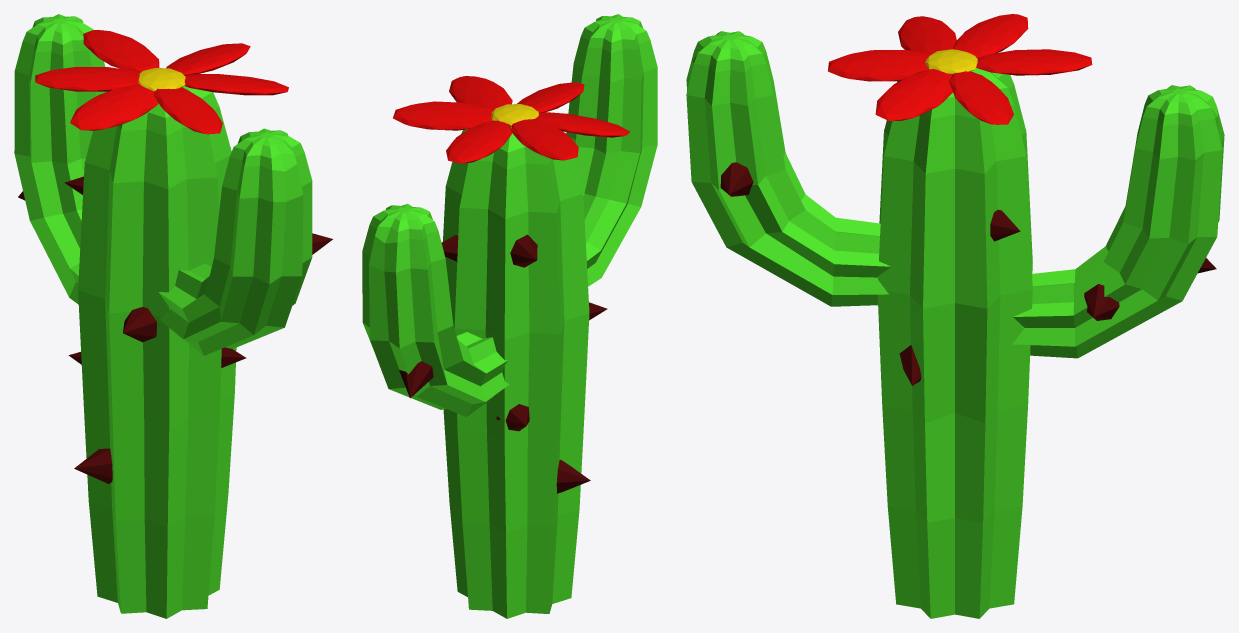
Rendered from cactus1.fbx.
3 views of the same model, side by side, from view 1: azimuth 30°, elevation 25°; view 2: azimuth 150°, elevation 25°; view 3: azimuth 270°, elevation 25° (orthographic). The views are drawn at different scales.
Visible parts, largest first — view 1: Cylinder, Cylinder.002, Cylinder.001, Icosphere.004, Icosphere, Icosphere.002, Icosphere.003, Icosphere.005, Icosphere.006, Cone.003, Icosphere.001, Cone; view 2: Cylinder, Cylinder.001, Cylinder.002, Icosphere.006, Icosphere.002, Icosphere, Icosphere.005, Icosphere.004, Icosphere.003, Icosphere.001, Cone.002, Cone.001 (+2 smaller); view 3: Cylinder, Cylinder.002, Cylinder.001, Icosphere.005, Icosphere.003, Icosphere.002, Icosphere.006, Icosphere, Icosphere.004, Icosphere.001, Cone.008, Cone.004.
Boxes of the visible parts, box(x1,y1,x2,y2) form: Cylinder: box(78, 86, 236, 618); Cylinder.002: box(158, 128, 312, 355); Cylinder.001: box(14, 14, 106, 304); Icosphere.004: box(70, 84, 158, 130); Icosphere: box(35, 67, 139, 91); Icosphere.002: box(83, 30, 159, 72); Icosphere.003: box(153, 87, 222, 134); Icosphere.005: box(184, 74, 288, 95); Icosphere.006: box(166, 43, 250, 75); Cone.003: box(123, 307, 156, 342); Icosphere.001: box(138, 68, 185, 91); Cone: box(74, 448, 112, 483); Cylinder: box(443, 127, 589, 618); Cylinder.001: box(362, 204, 509, 416); Cylinder.002: box(566, 14, 657, 286); Icosphere.006: box(393, 101, 493, 130); Icosphere.002: box(446, 121, 511, 163); Icosphere: box(511, 119, 578, 160); Icosphere.005: box(449, 76, 512, 110); Icosphere.004: box(535, 112, 629, 137); Icosphere.003: box(517, 82, 584, 112); Icosphere.001: box(491, 104, 538, 126); Cone.002: box(399, 361, 433, 398); Cone.001: box(510, 234, 537, 267); Cylinder: box(877, 68, 1032, 618); Cylinder.002: box(686, 31, 891, 306); Cylinder.001: box(1012, 85, 1224, 358); Icosphere.005: box(875, 69, 952, 121); Icosphere.003: box(828, 50, 931, 81); Icosphere.002: box(976, 49, 1092, 75); Icosphere.006: box(949, 71, 1013, 124); Icosphere: box(953, 14, 1028, 58); Icosphere.004: box(898, 16, 956, 53); Icosphere.001: box(925, 49, 977, 74); Cone.008: box(720, 162, 753, 196); Cone.004: box(1084, 284, 1119, 320).
Bounding box in the file's own units: 401 × 962 × 843.
